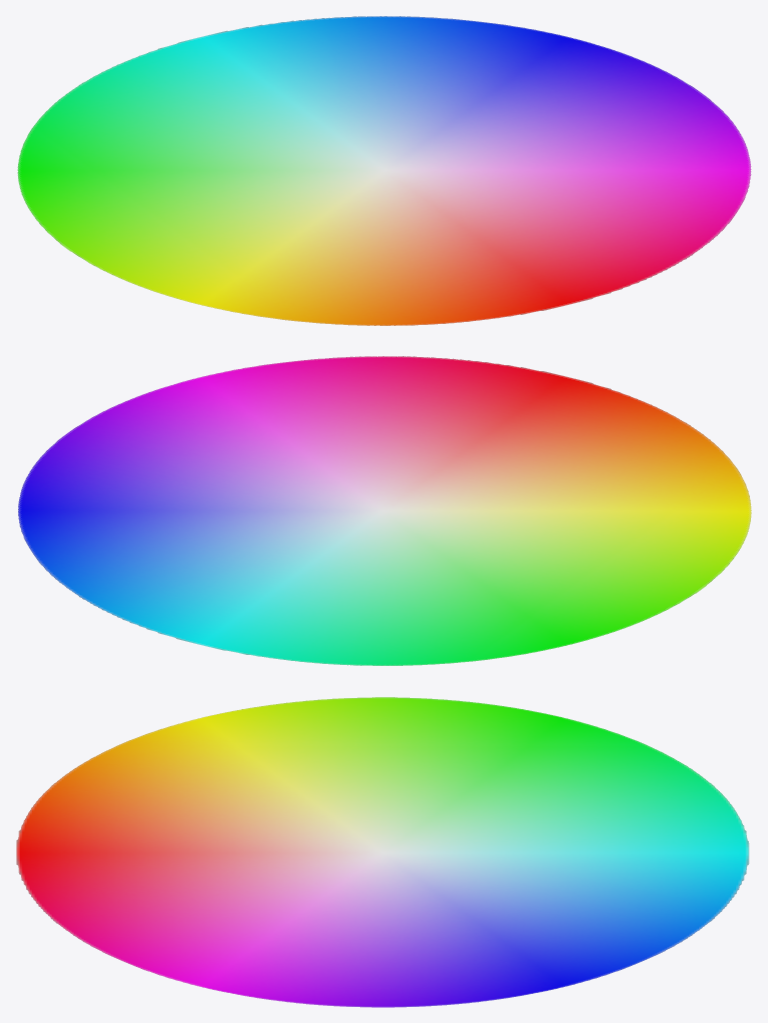
Rendered from color_picker.obj.
3 views of the same model, one above another, from view 1: azimuth 30°, elevation 25°; view 2: azimuth 150°, elevation 25°; view 3: azimuth 270°, elevation 25° (orthographic).
Visible parts, largest first — view 1: Circle_Circle.002; view 2: Circle_Circle.002; view 3: Circle_Circle.002.
Boxes of the visible parts, x1,y1,x2,y2 form: Circle_Circle.002: [17, 16, 751, 325]; Circle_Circle.002: [18, 356, 751, 665]; Circle_Circle.002: [16, 697, 749, 1007].
Bounding box in the file's own units: 2 × 0 × 2.
